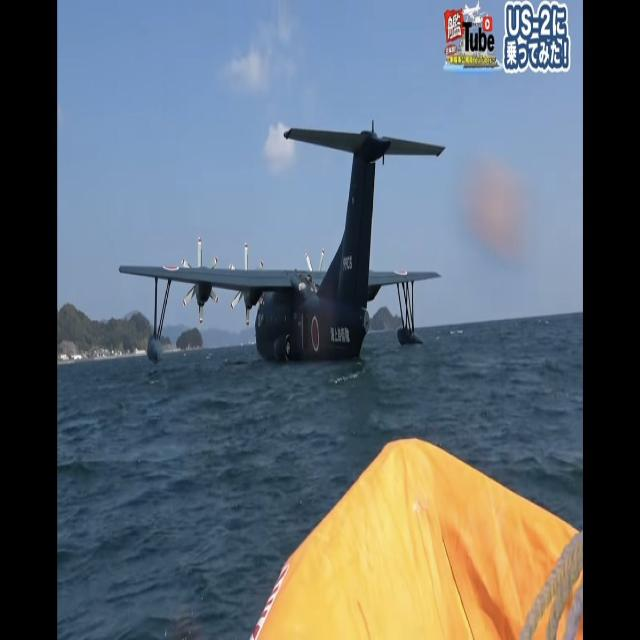MIL_Plane: (118, 118, 446, 366)
